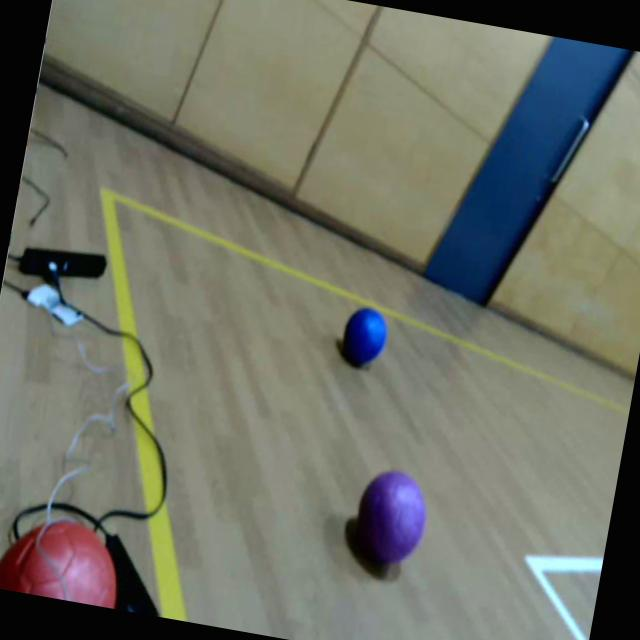blue_ball: (339, 305, 391, 369)
purple_ball: (349, 462, 433, 571)
red_ball: (0, 504, 129, 608)
